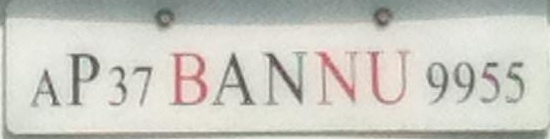character: (315, 48, 359, 108), (366, 47, 410, 107), (263, 48, 307, 105), (168, 48, 207, 108), (212, 53, 256, 106), (66, 49, 100, 106), (28, 67, 60, 109), (450, 60, 475, 106), (477, 58, 501, 105), (503, 58, 526, 105), (425, 59, 449, 104), (105, 63, 128, 107), (130, 64, 154, 106)
